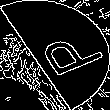P_SW: (15, 27, 95, 83)
